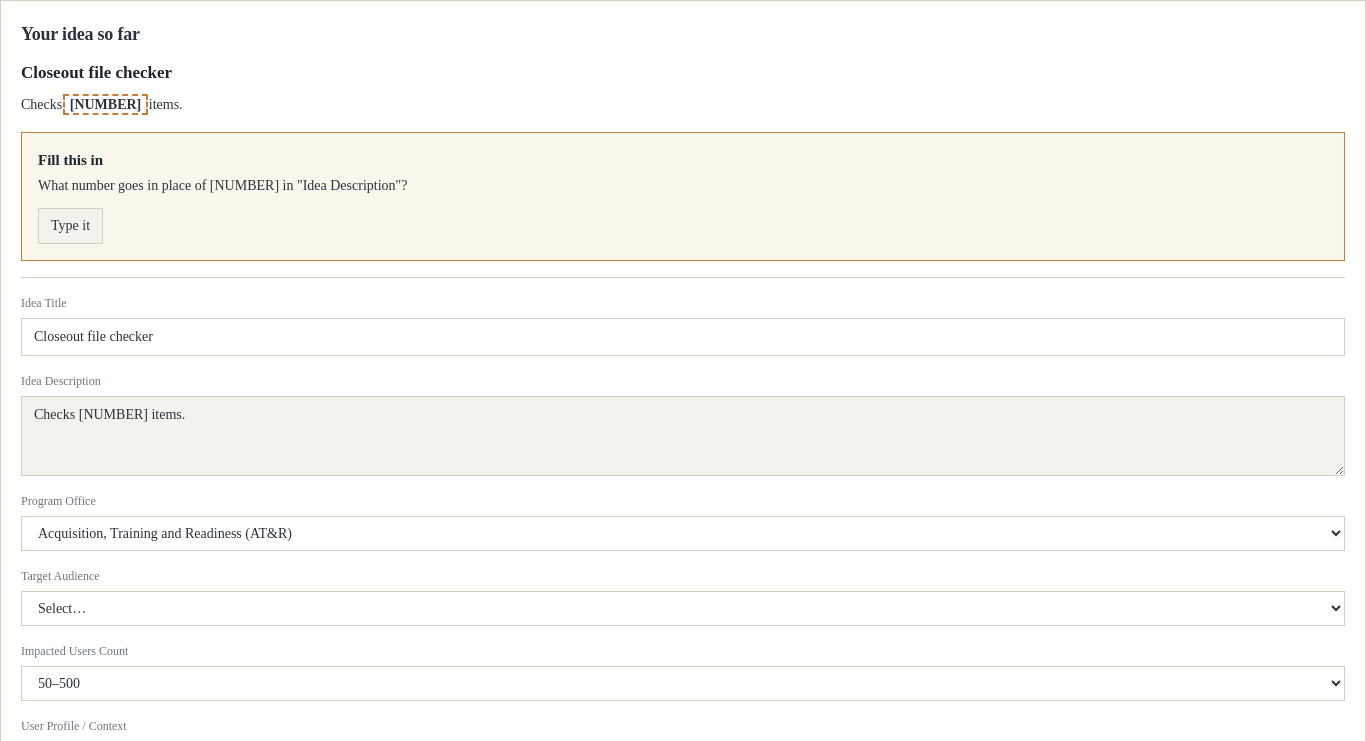
Test: IntakeReadyCheckPanel (F6-2, ES2) › Type it opens an input; saving replaces the blank with what was typed
Later steps or results of the test are not shown.
Click the button "Type it".
click(71, 226)  # box [38,208,103,244]
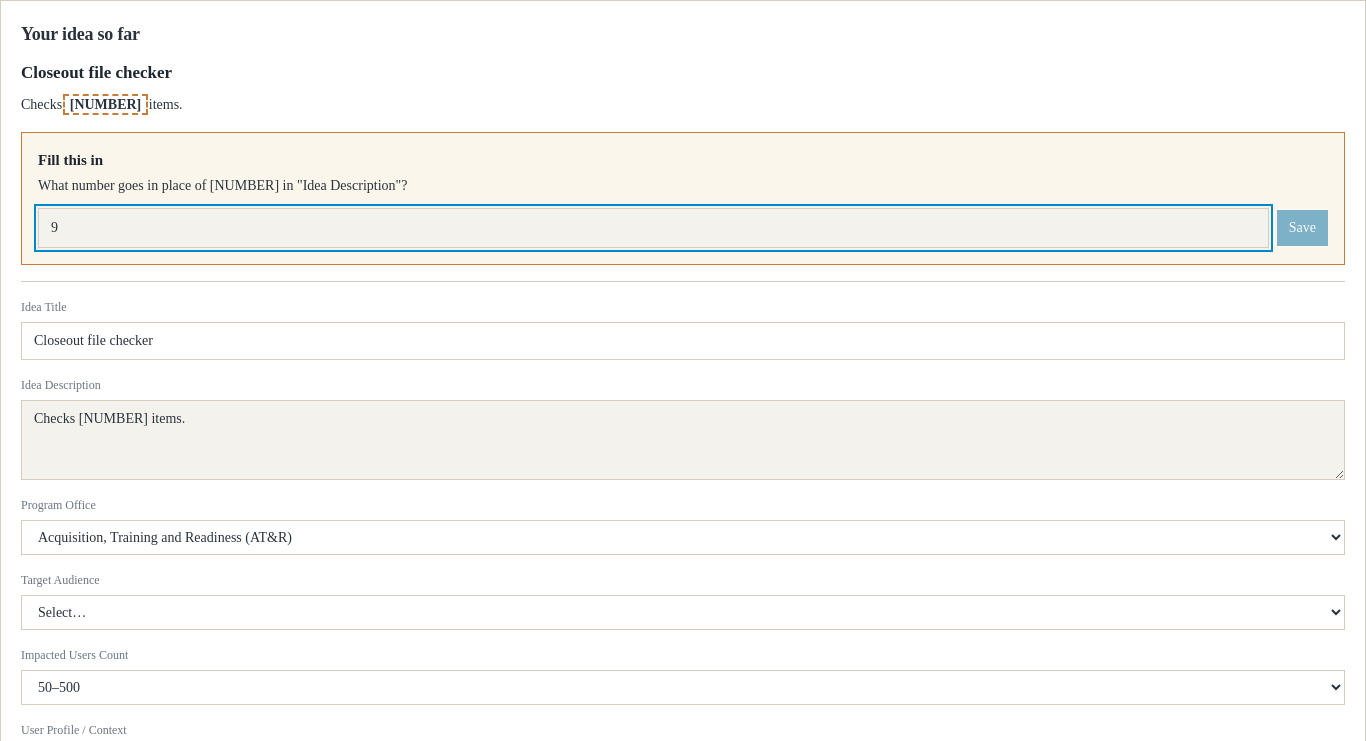
Expected: the field with test id "fill-input" is shown, [38,208,1269,248]
